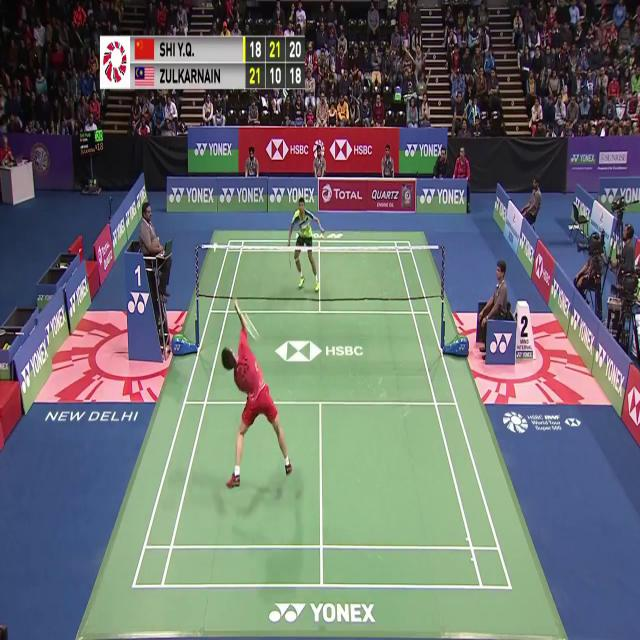Shuttlecock: (211, 245, 217, 256)
